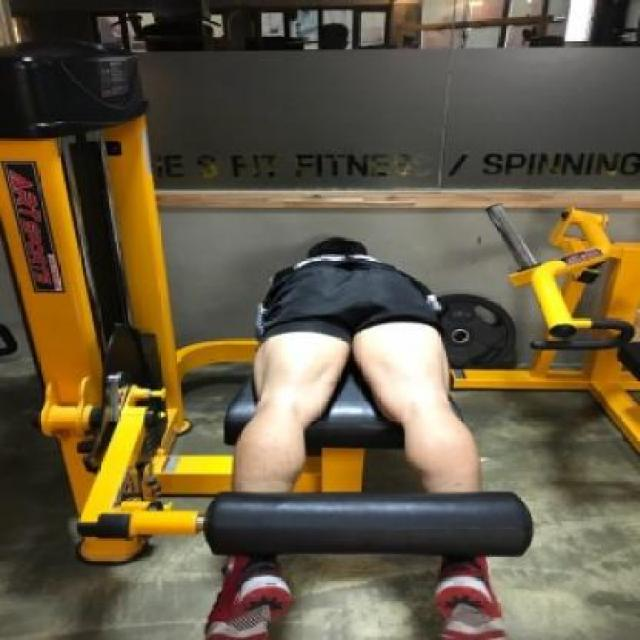reg curl machine: (0, 37, 540, 640)
